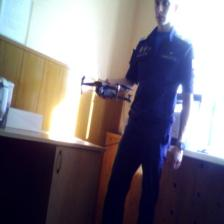drone: (79, 68, 135, 108)
